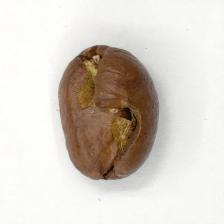NG: (69, 49, 145, 168)
